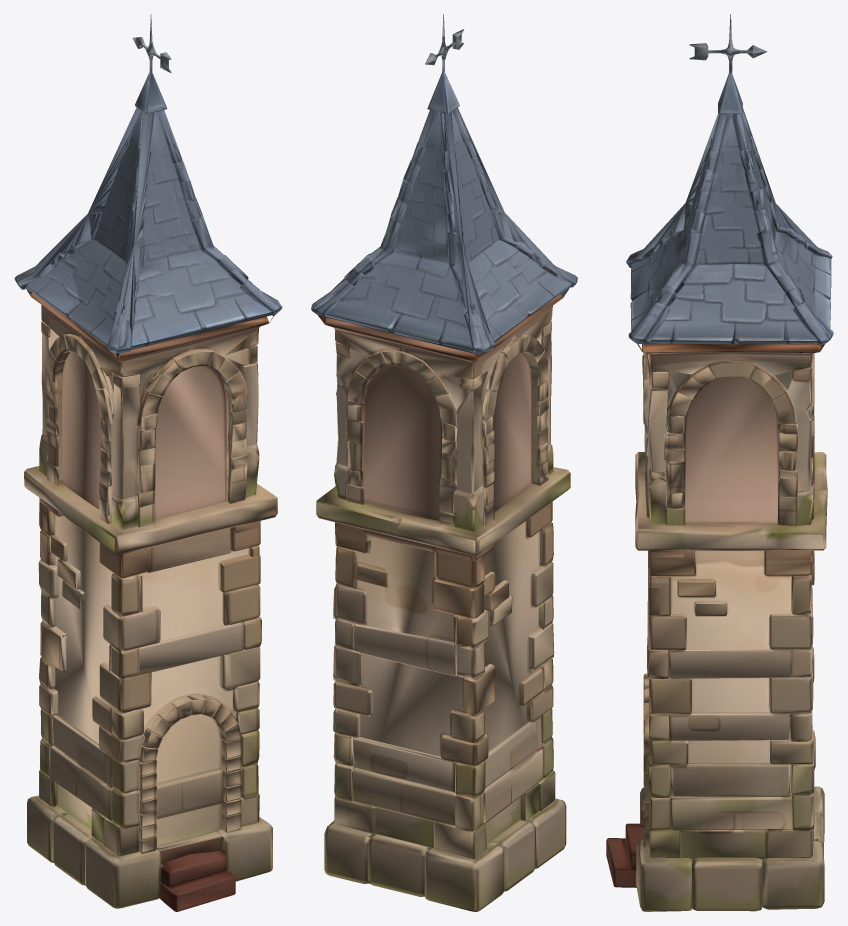
3 renders of one model, left to right at view 1: azimuth 30°, elevation 25°; view 2: azimuth 150°, elevation 25°; view 3: azimuth 270°, elevation 25°, orthographic.
Visible parts, largest first — view 1: tripo_node_32739792; view 2: tripo_node_32739792; view 3: tripo_node_32739792.
Boxes of the visible parts, left/top/right/bottom form: tripo_node_32739792: left=14, top=14, right=282, bottom=911; tripo_node_32739792: left=311, top=14, right=577, bottom=911; tripo_node_32739792: left=606, top=14, right=833, bottom=911.
Size of the model in its own units: 0.2212 by 0.9995 by 0.2397.
Materials: 1 (1 with a texture image).
